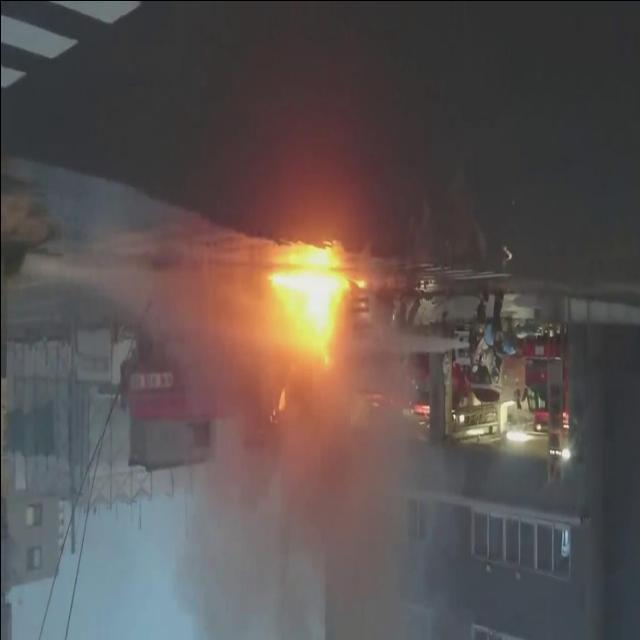Fire: (264, 270, 344, 344), (351, 277, 367, 291)
